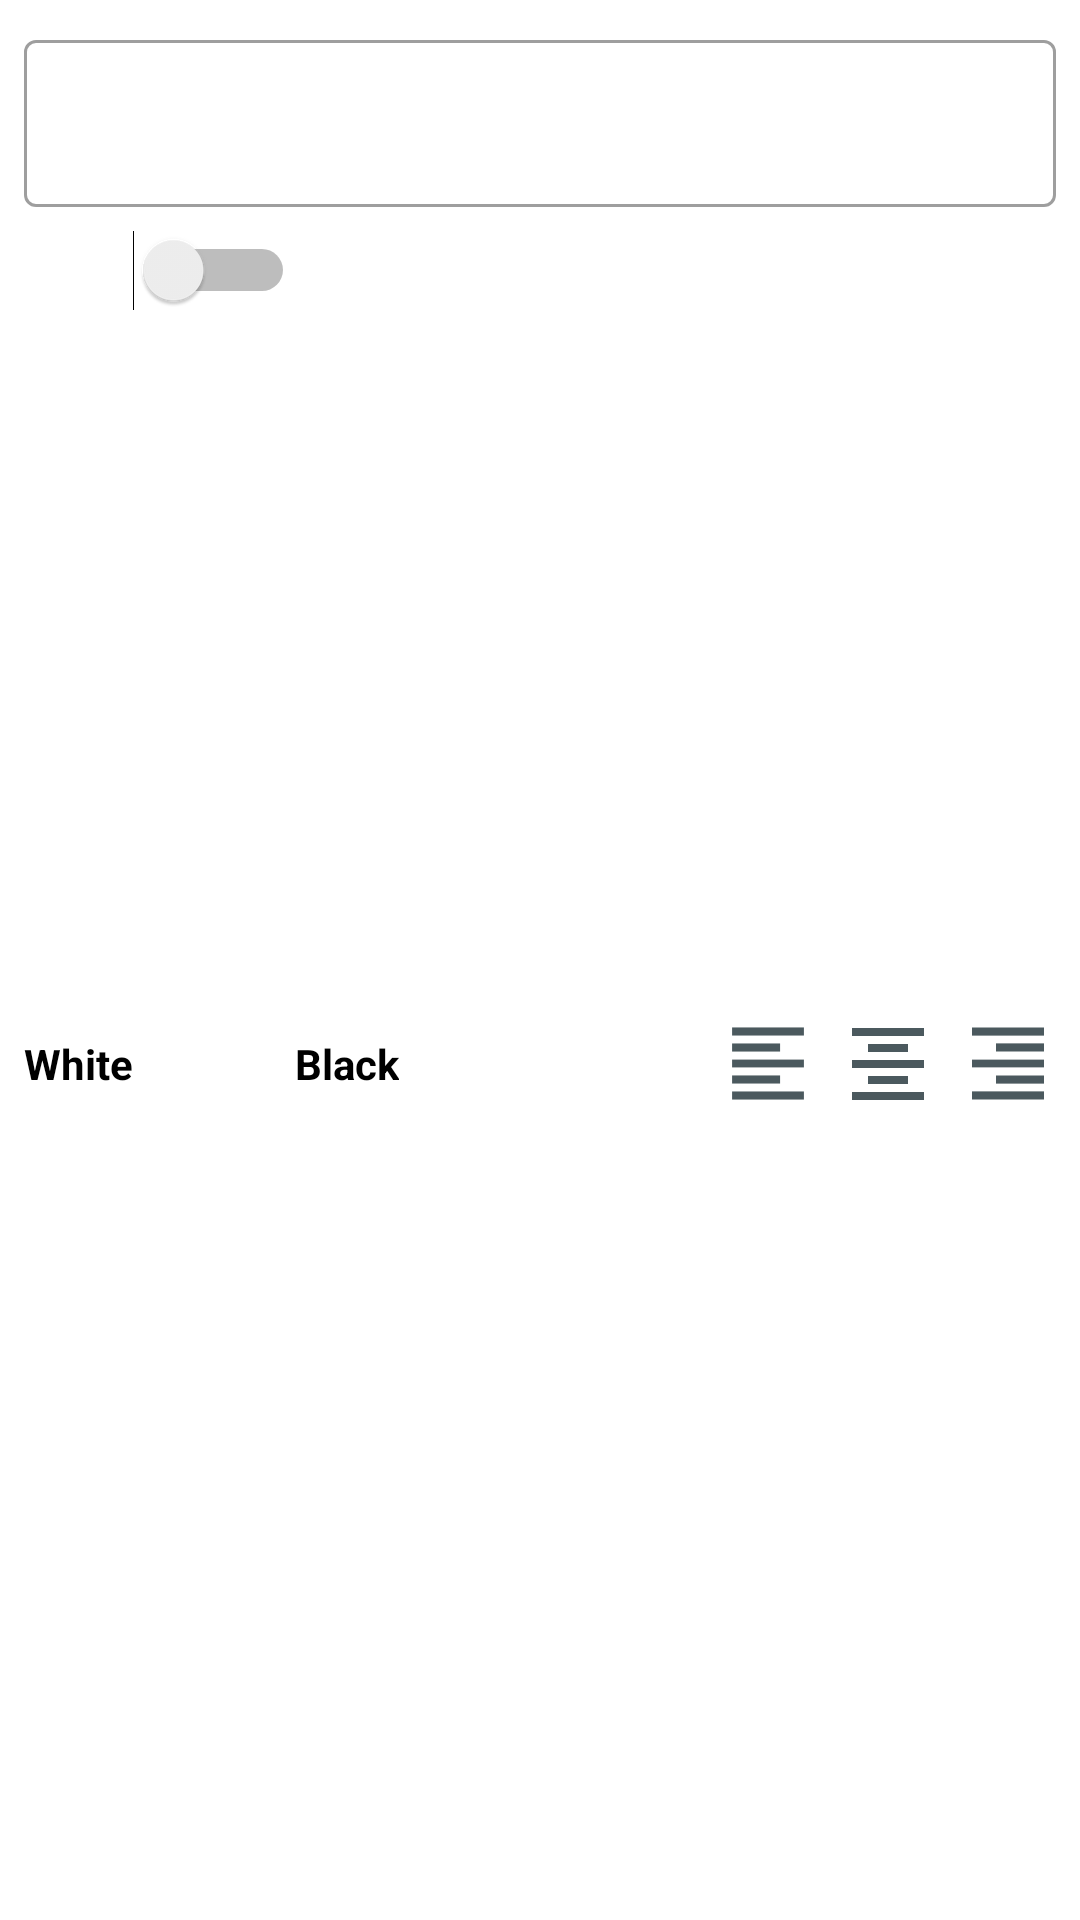

Icons on this 1080px×1920px Android screen, each with its box as BBox(x1, y1, x2, y2):
align center: BBox(852, 1028, 924, 1100)
align left: BBox(732, 1027, 804, 1100)
align right: BBox(972, 1027, 1044, 1100)
